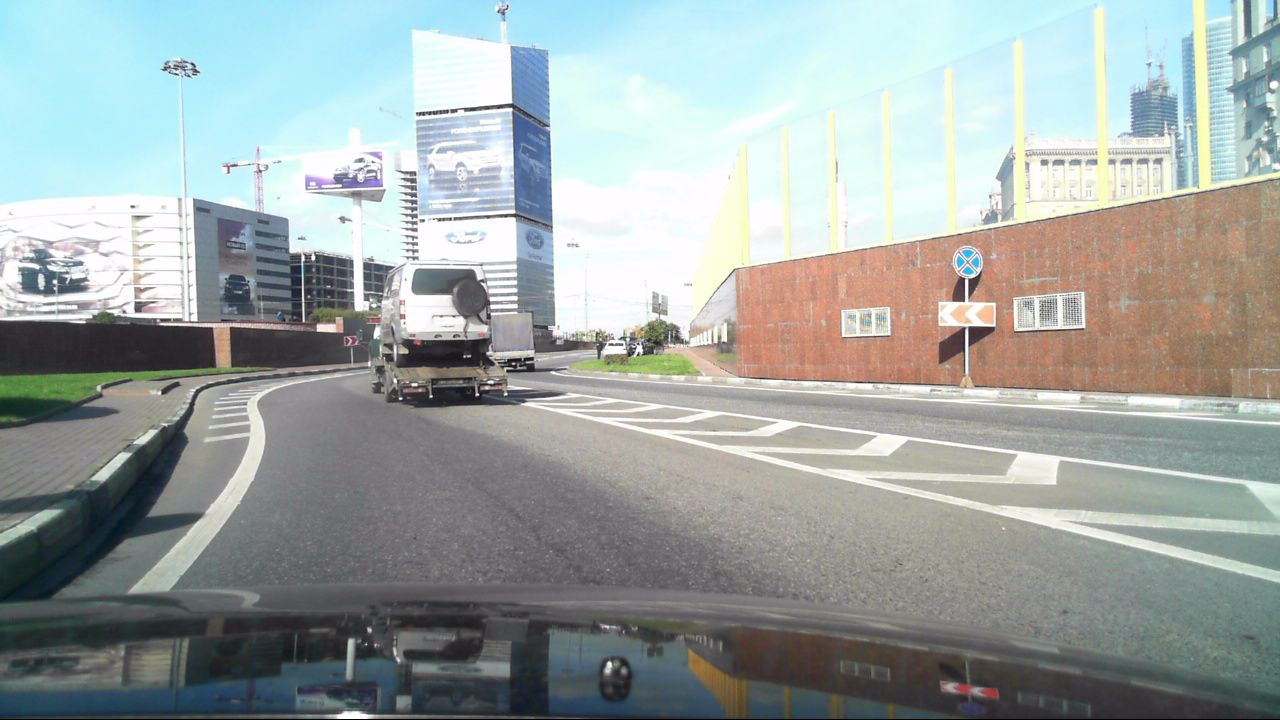No Parking: (952, 245, 983, 279)
